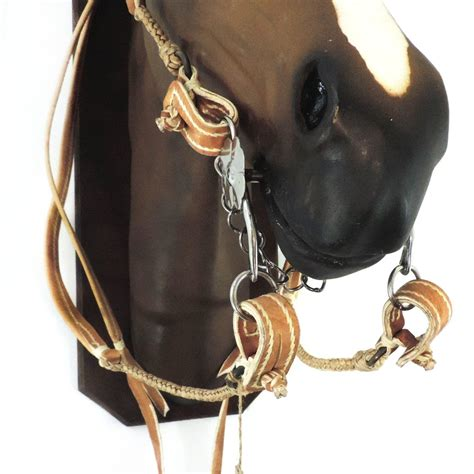cuero: (222, 274, 450, 396)
